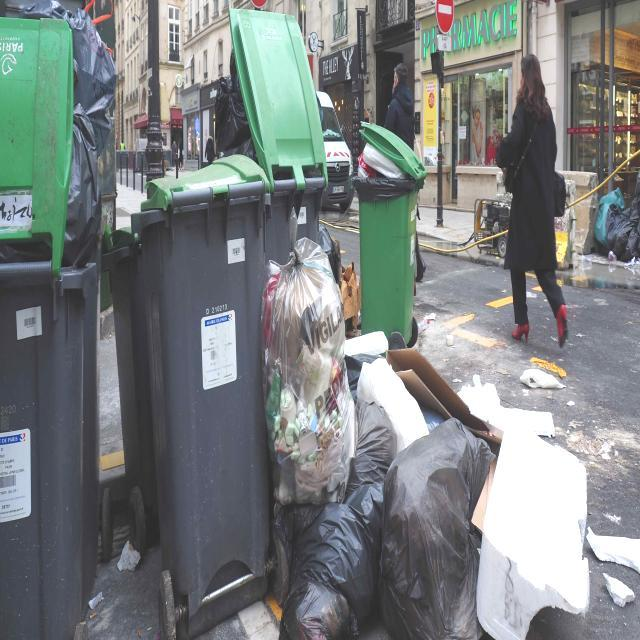high trash: (262, 240, 589, 640)
less trash: (588, 528, 640, 572), (520, 358, 566, 389), (603, 572, 635, 607)
